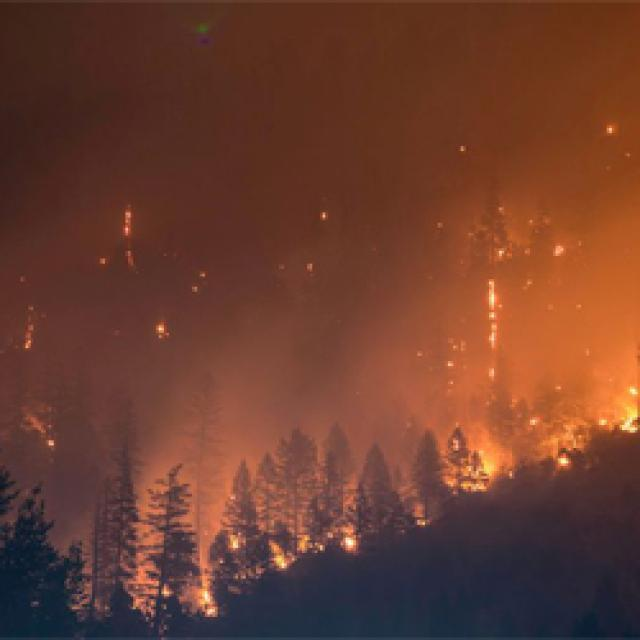Fire: (478, 199, 515, 486), (0, 264, 61, 426), (140, 556, 240, 628), (216, 517, 309, 575), (12, 398, 72, 462), (594, 348, 640, 430), (525, 226, 592, 274), (416, 132, 484, 162), (397, 508, 446, 547), (104, 200, 162, 230), (594, 114, 632, 153), (336, 514, 366, 562), (181, 264, 215, 304), (115, 221, 141, 272), (278, 255, 328, 279), (152, 325, 184, 353), (314, 206, 333, 230)
Smoke: (106, 276, 493, 543), (414, 107, 632, 353)
